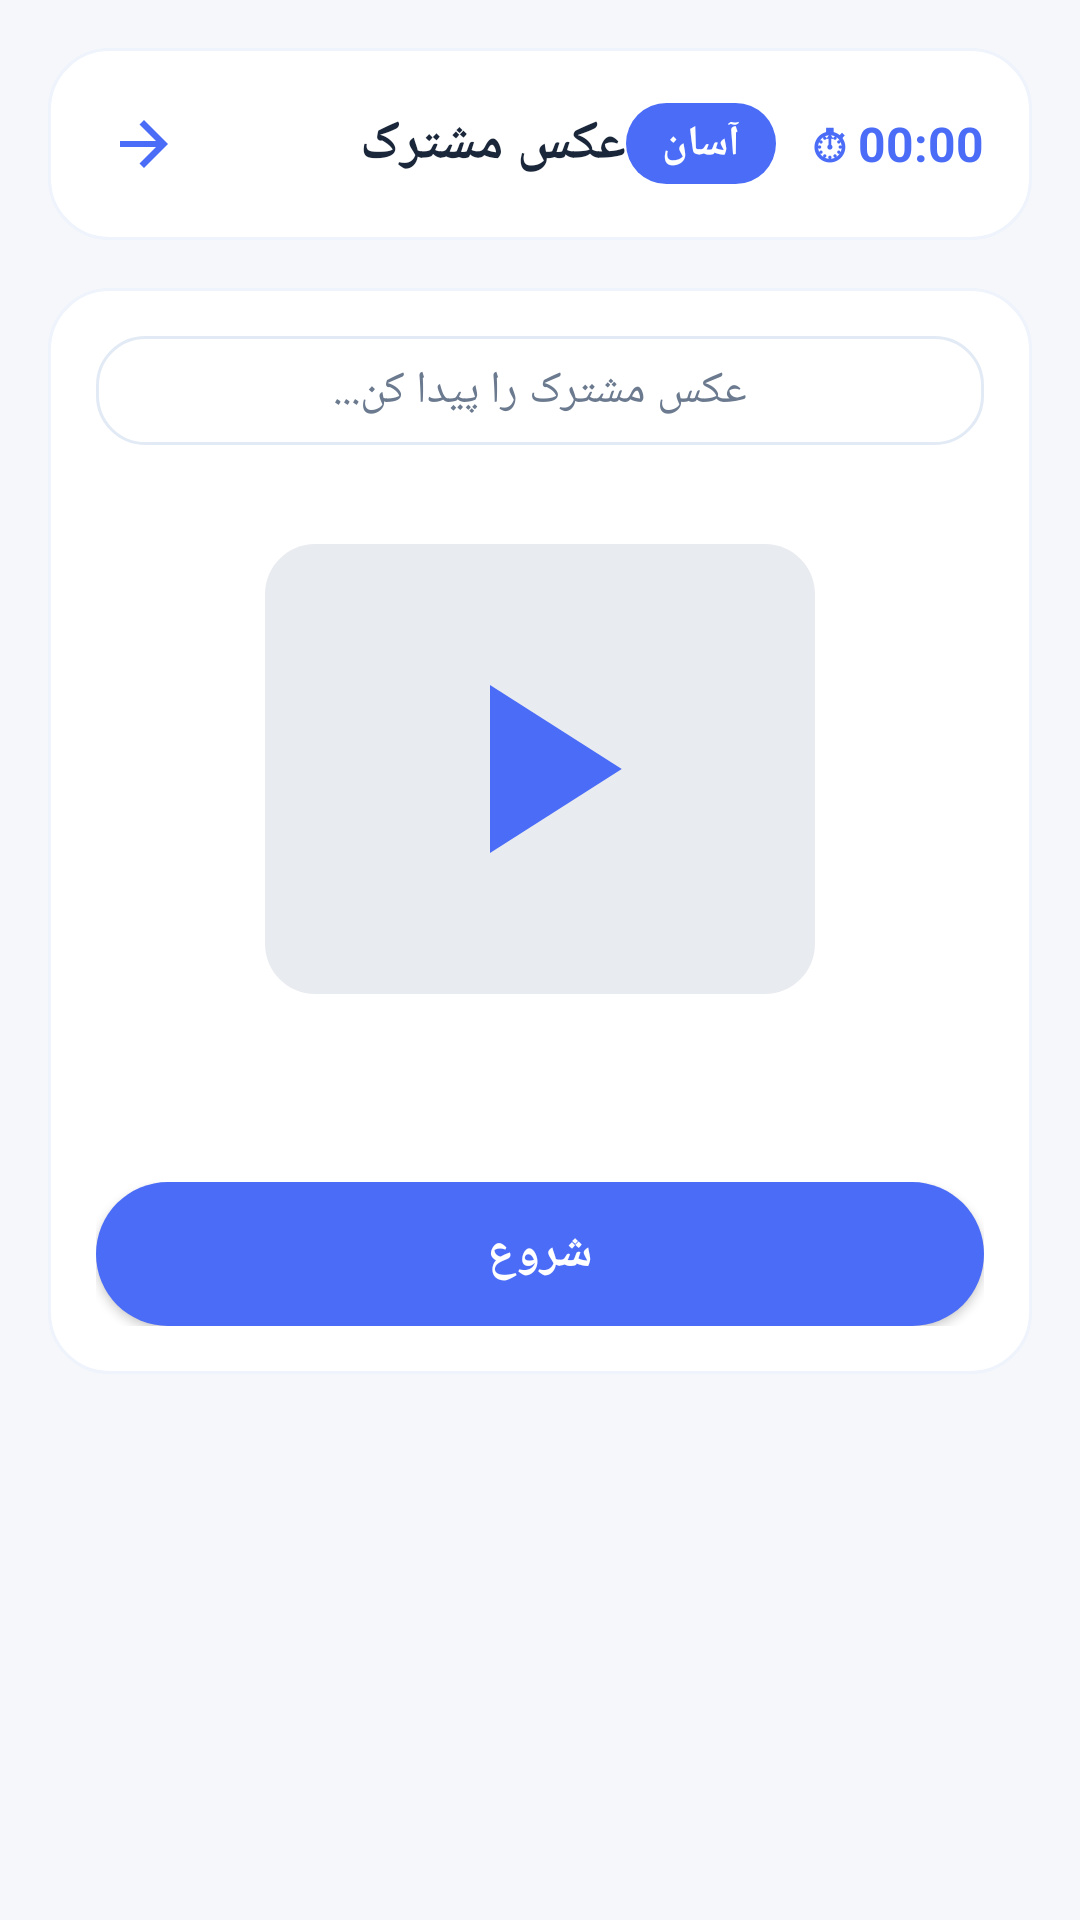

Icons on this 1080×1920 Android screen, each with the point to tap as (x,y):
arrow right: (144,144)
